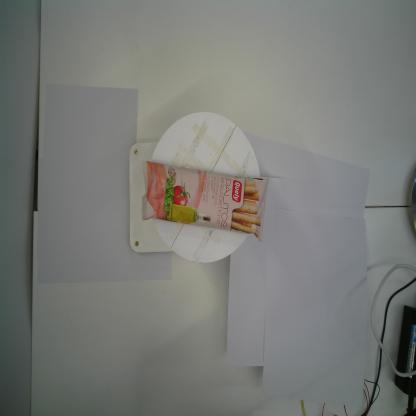Dessert: (139, 157, 271, 246)
